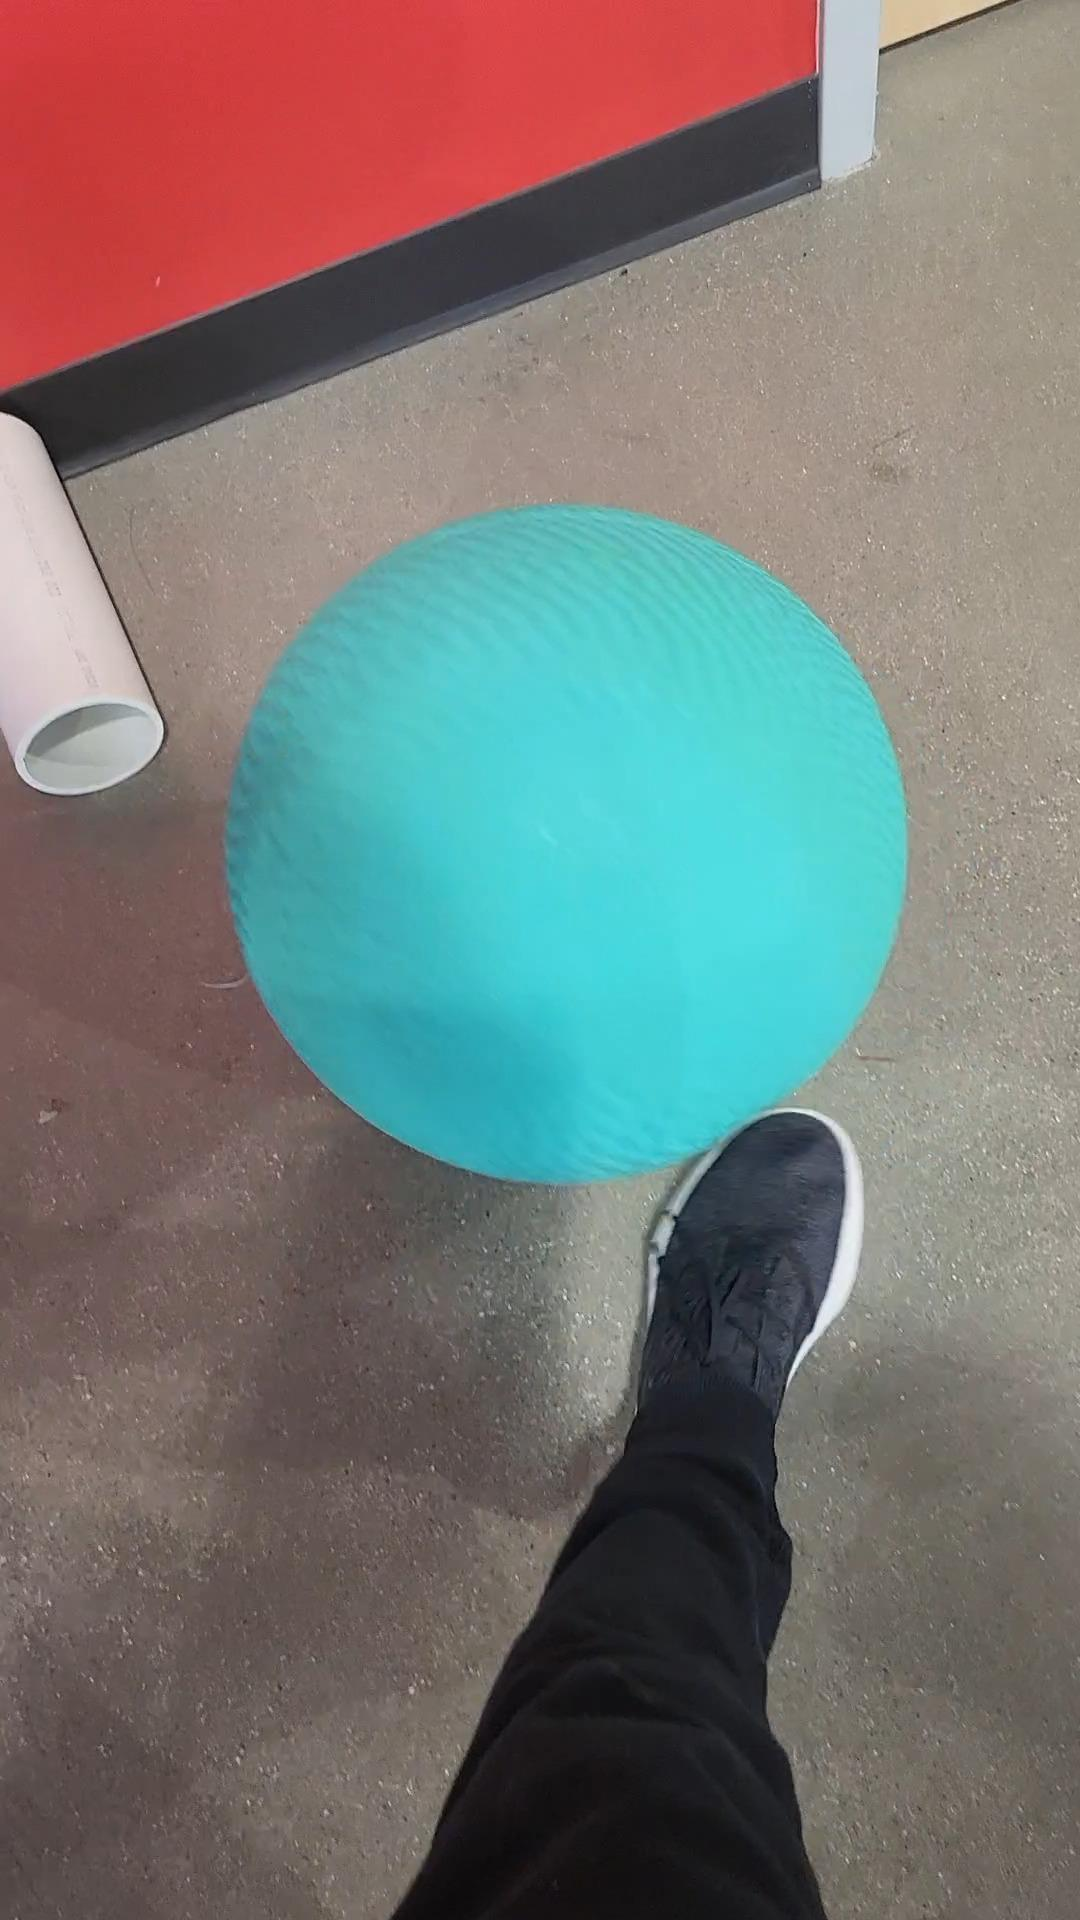algae: (222, 481, 910, 1209)
coral: (0, 356, 182, 828)
